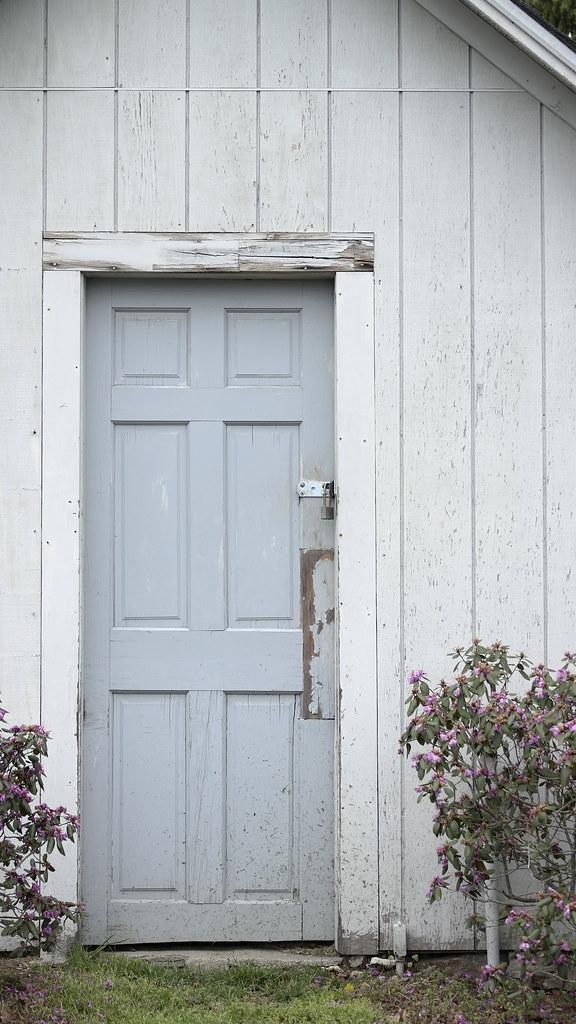door: (79, 273, 339, 948)
